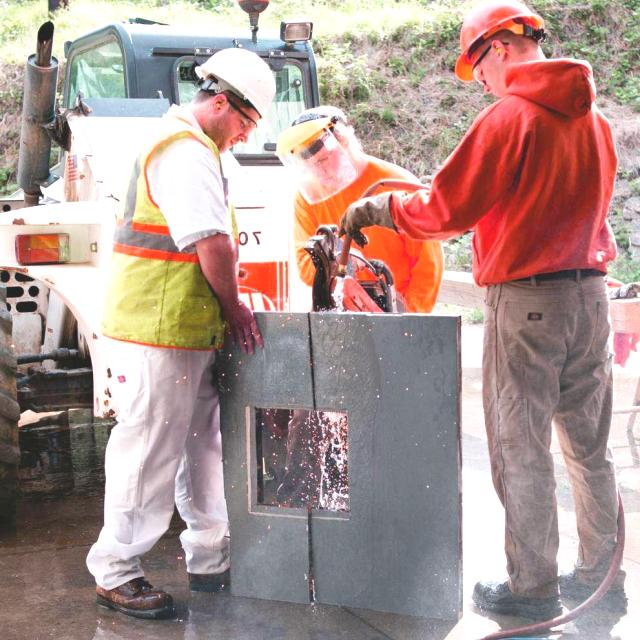face_mask: (279, 104, 355, 207)
face_nomask: (474, 40, 520, 105), (216, 91, 262, 155)
hand_glove: (334, 186, 391, 266)
hand_noglove: (210, 293, 278, 359)
head_helmet: (438, 1, 546, 85), (189, 54, 282, 114)
person: (61, 25, 289, 607), (458, 1, 621, 613), (281, 81, 442, 339)
shoes: (82, 554, 186, 627), (469, 572, 572, 621), (550, 560, 632, 613)
vest: (100, 131, 242, 359)
